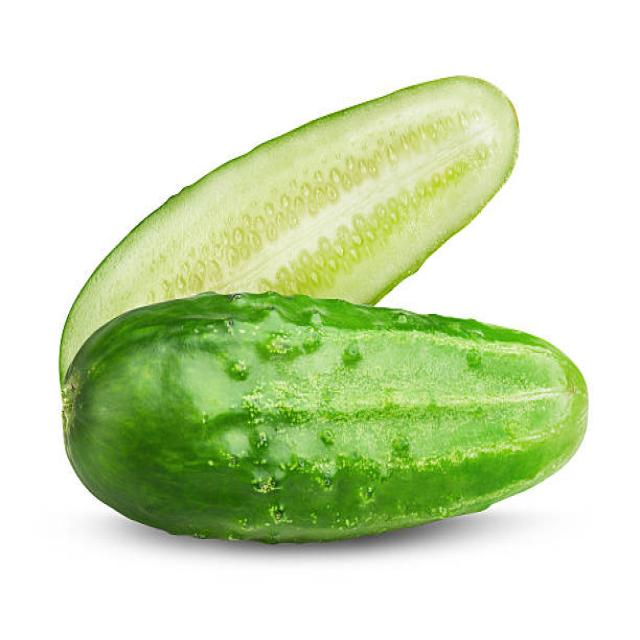cucumber: (59, 77, 522, 385), (60, 294, 587, 544)
